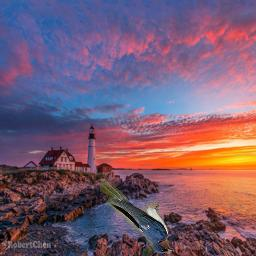Swallow: (100, 179, 172, 254)
